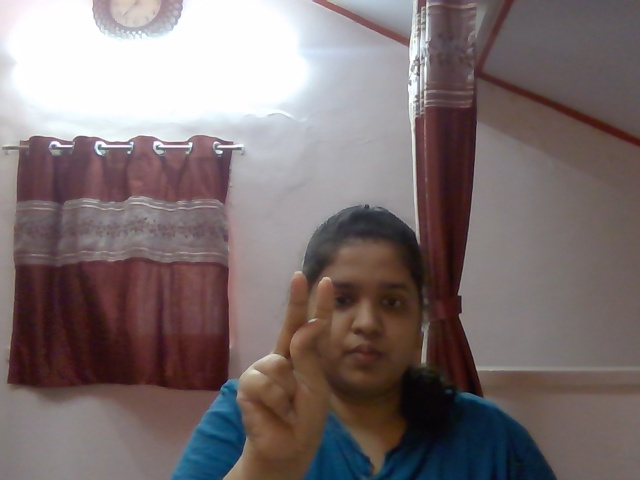k: (232, 263, 342, 458)
